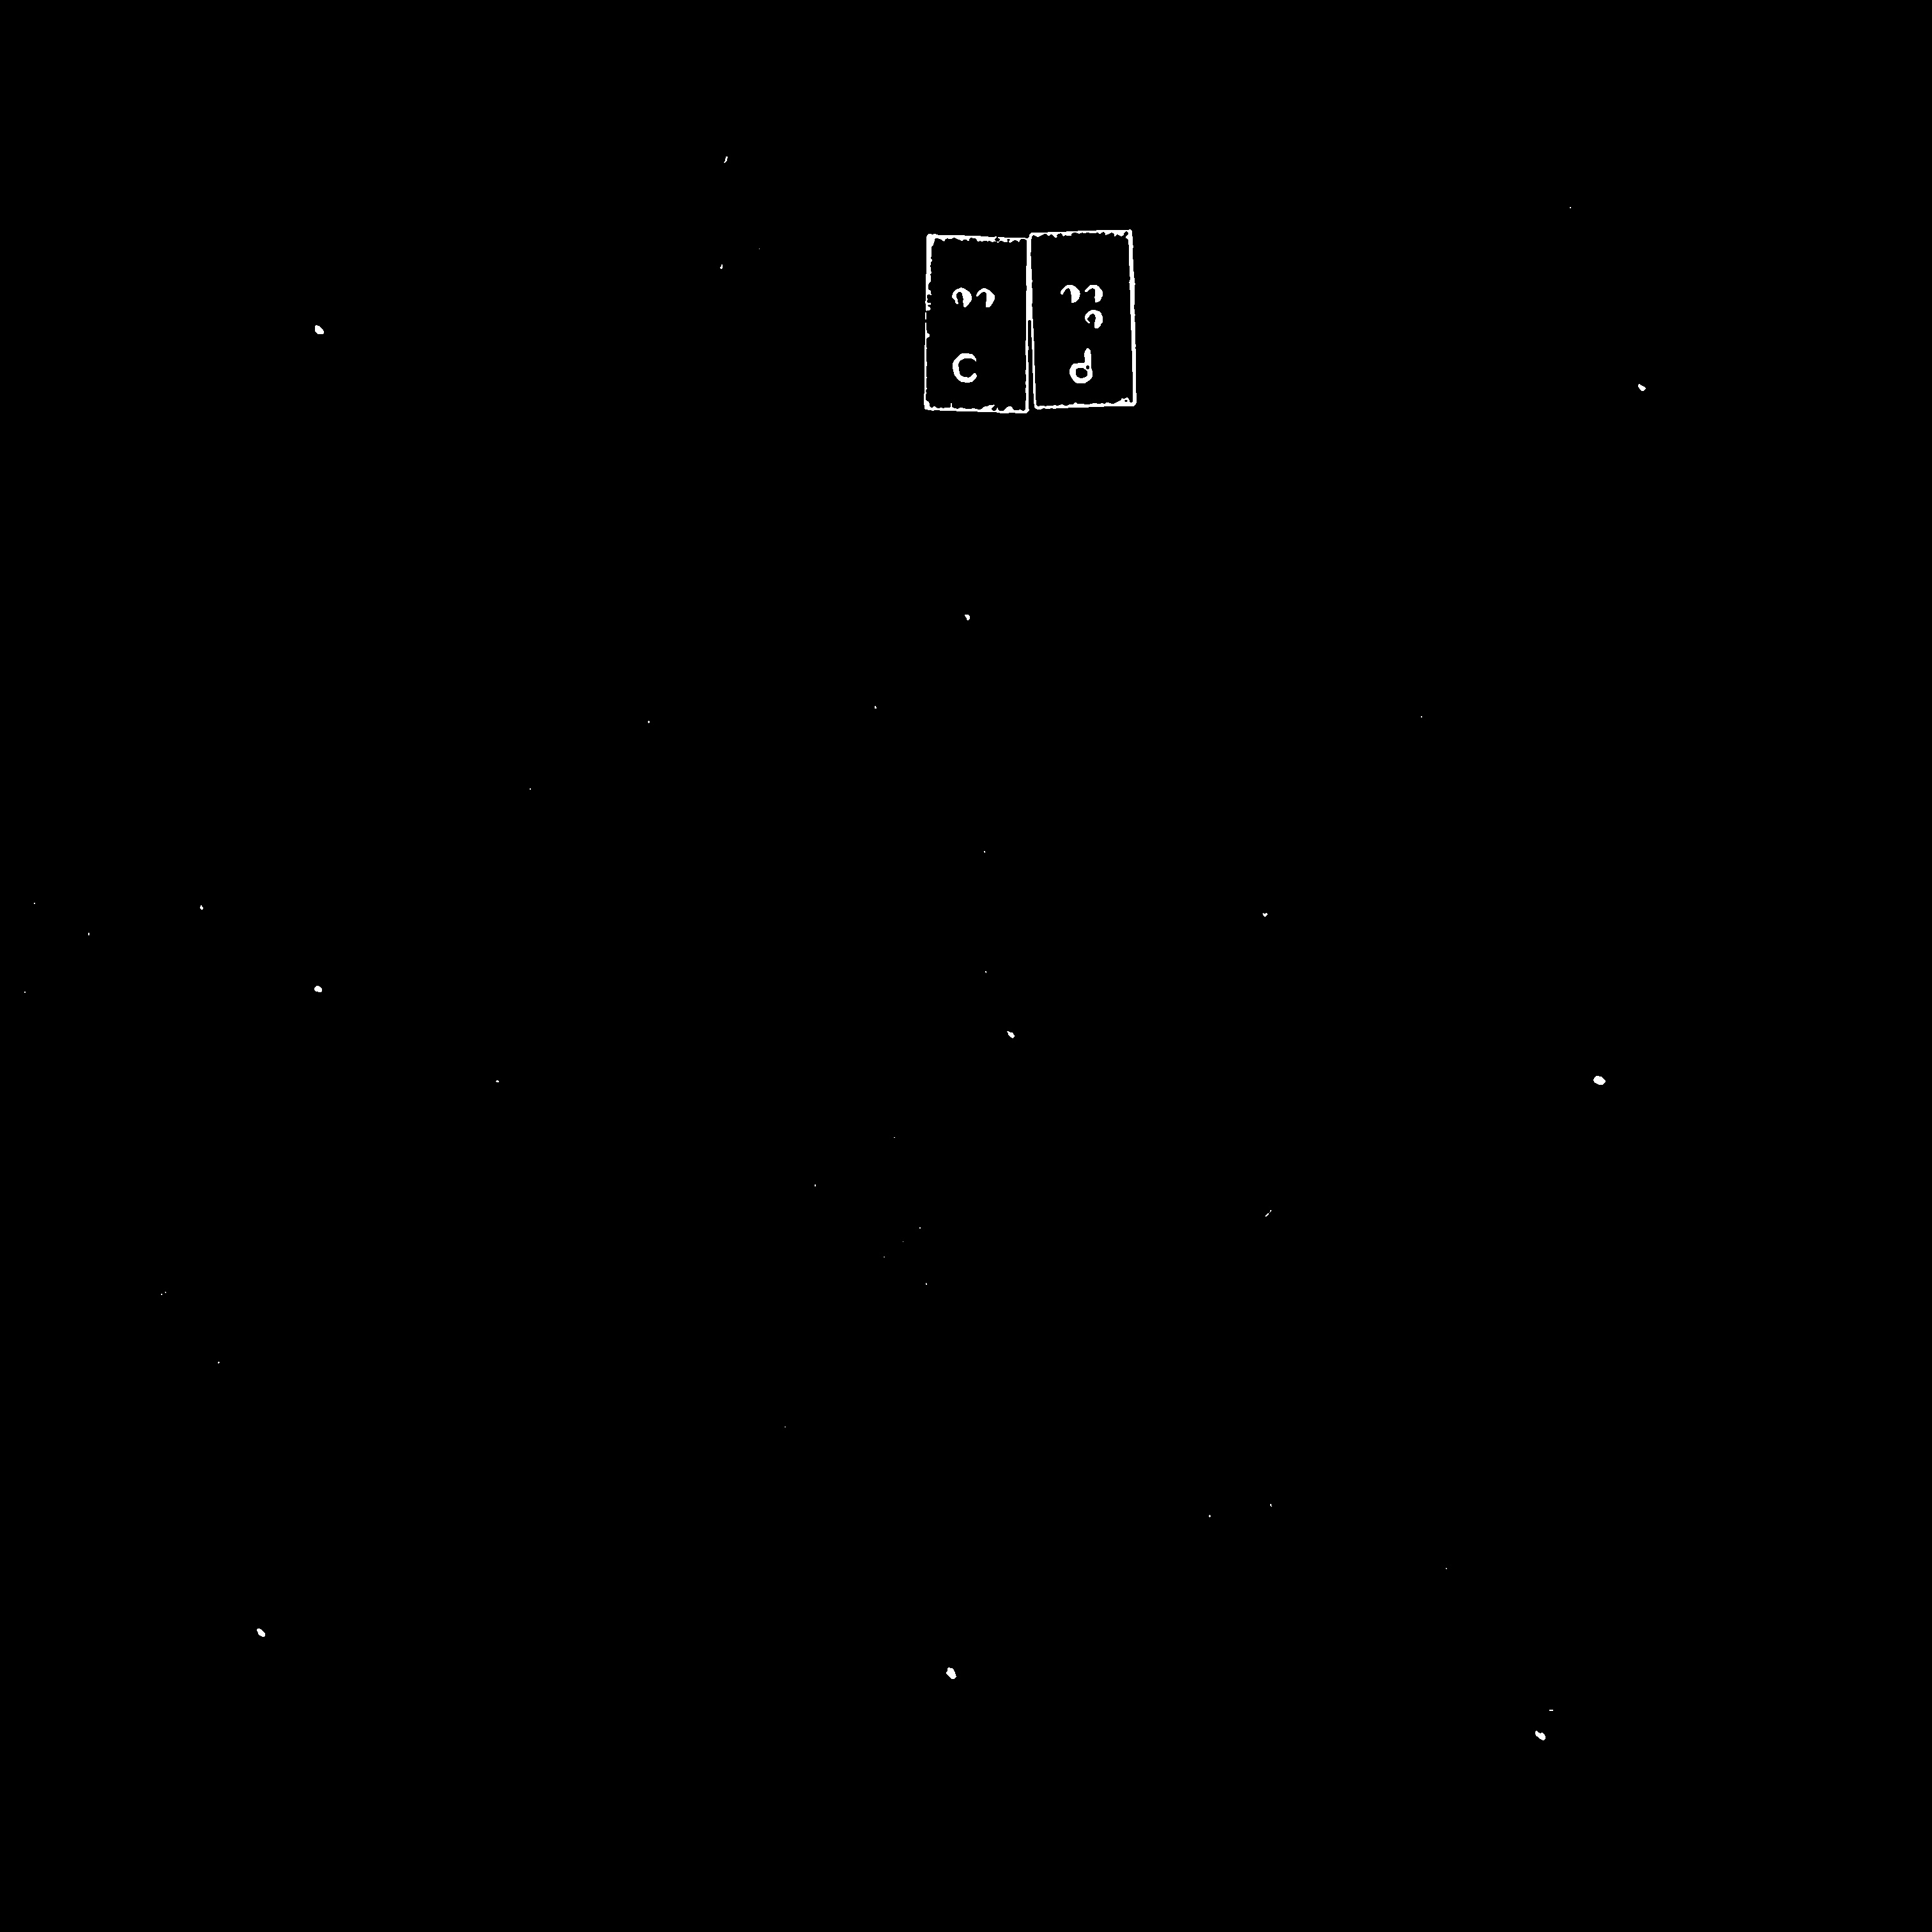c: (944, 275, 1004, 365)
d: (1053, 272, 1117, 362)
